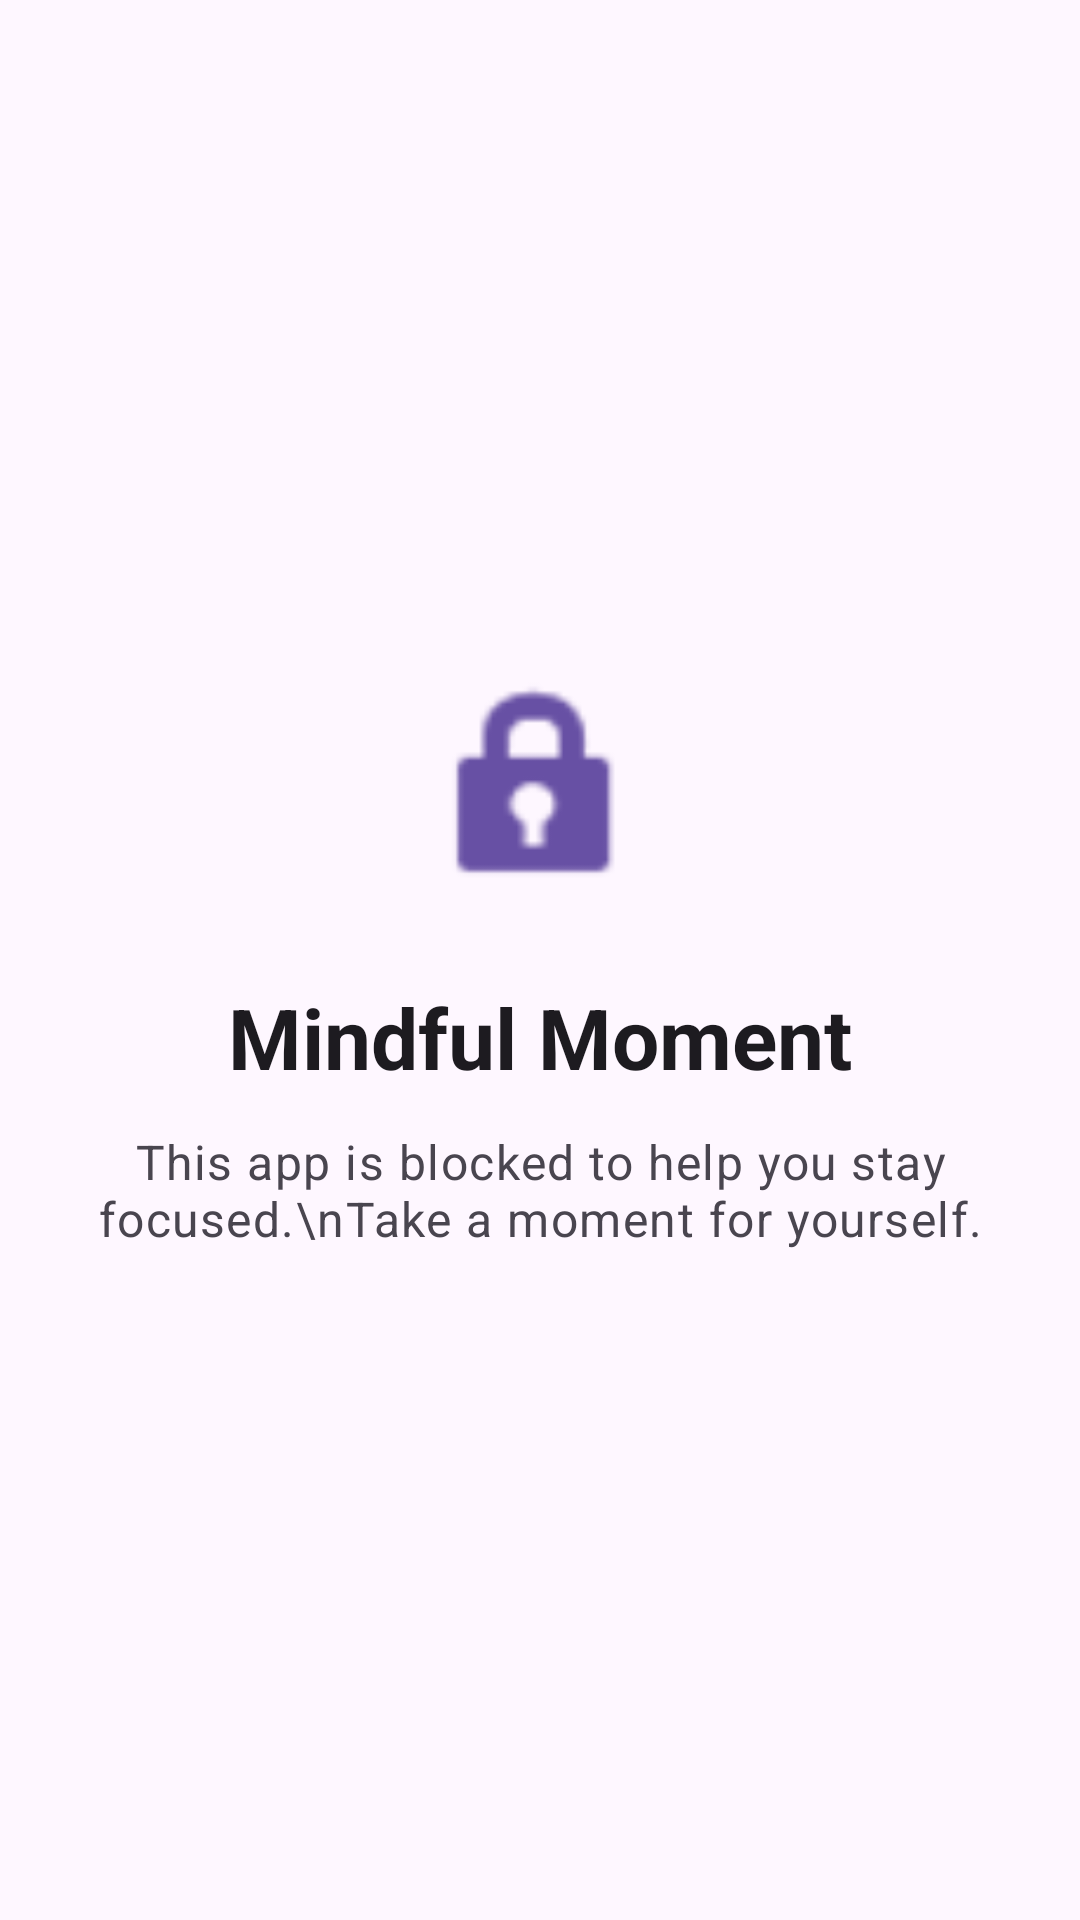

Screen size 1080w x 1920h. Icon name, then its center in pixels as (x=x, y=y):
lock idle: (x=534, y=781)
